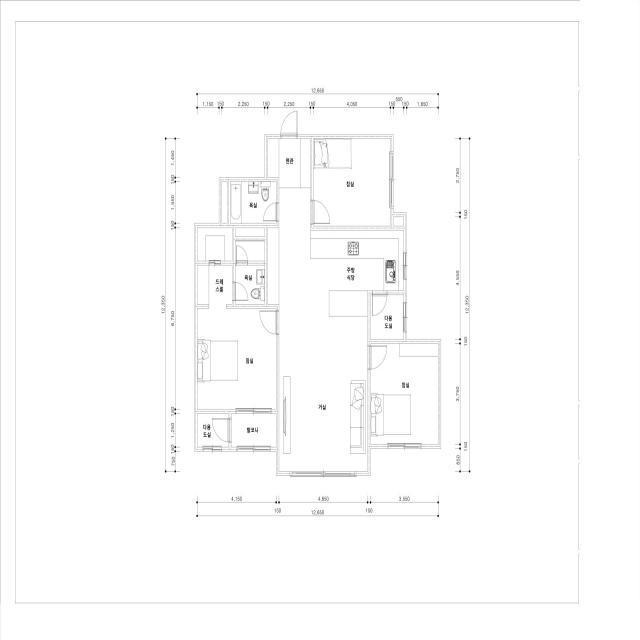space_balconi: (232, 414, 276, 447)
space_bedroom: (197, 309, 276, 409), (371, 344, 438, 444), (313, 139, 390, 226)
space_dressroom: (197, 265, 232, 308)
space_front: (268, 139, 310, 188)
space_kitchen: (311, 230, 404, 316)
space_living_room: (268, 188, 368, 471)
space_multipurpose_space: (371, 295, 404, 339), (197, 414, 228, 447)
space_other: (197, 228, 232, 261), (235, 228, 265, 237), (222, 182, 227, 223)
space_toilet: (230, 182, 276, 223), (235, 265, 265, 304), (235, 241, 265, 261)
